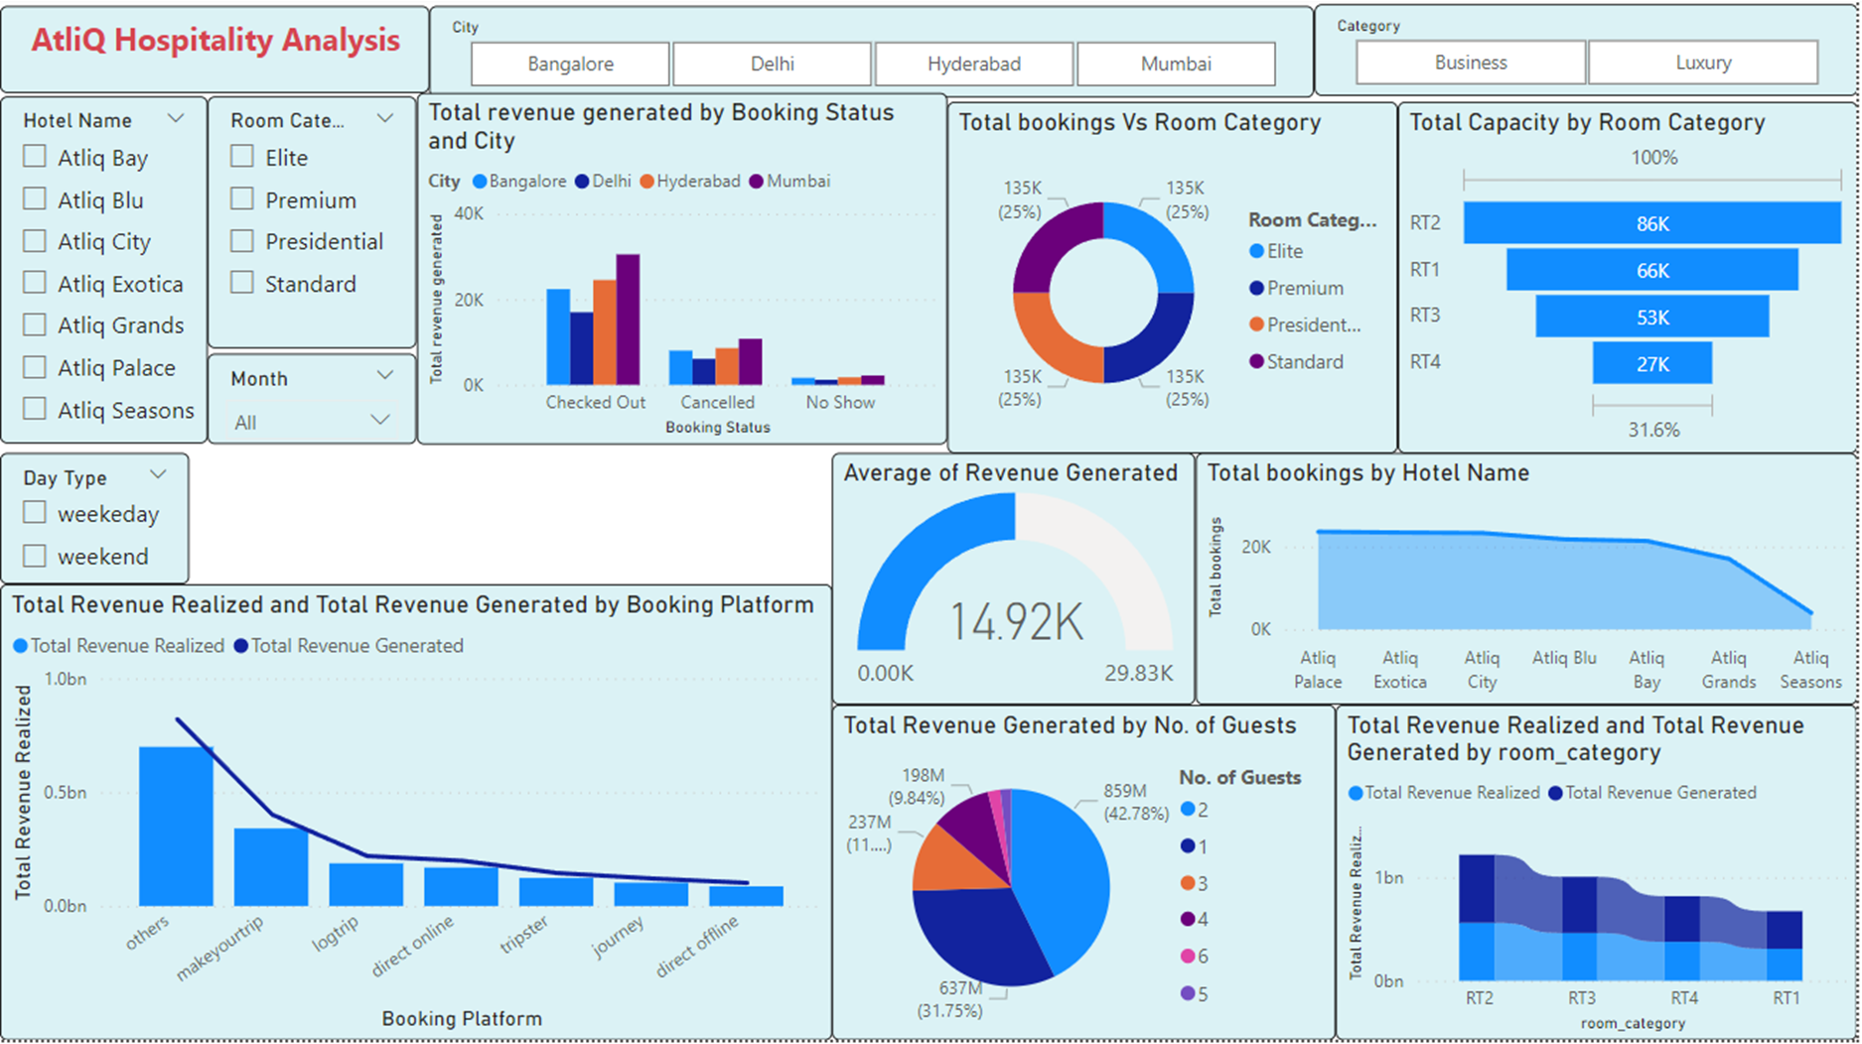

This screenshot's page, from the dashboard's own definition file:
{"tool":"powerbi","page":{"name":"Page 1","canvas":[1280,720],"ordinal":0},"visuals":[{"type":"slicer","fields":{"Values":["dim_hotels.city"]},"box":[295.8,7.3,610,63.6],"z":0},{"type":"slicer","fields":{"Values":["dim_hotels.property_name"]},"box":[0,69.7,143,239.6],"z":1000},{"type":"slicer","fields":{"Values":["dim_hotels.category"]},"box":[906.1,9.8,374.2,63.6],"z":2000},{"type":"textbox","box":[0,7.3,295.8,59.9],"z":3000},{"type":"slicer","fields":{"Values":["dim_date.day_type"]},"box":[0,315.4,130.8,90.5],"z":4000},{"type":"slicer","fields":{"Values":["dim_date.mmm yy.Variation.Date Hierarchy.Month"]},"box":[143,246.9,144.2,62.3],"z":5000},{"type":"slicer","fields":{"Values":["dim_rooms.Column2"]},"box":[143,69.7,144.2,173.6],"z":6000},{"type":"stackedAreaChart","fields":{"Y":["Sum(fact_aggregated_bookings.successful_bookings)"],"Category":["dim_hotels.property_name"]},"box":[823.9,315.4,456,173.6],"z":7000},{"type":"funnel","fields":{"Y":["Sum(fact_aggregated_bookings.capacity)"],"Category":["fact_aggregated_bookings.room_category"]},"box":[963.3,73.3,316.6,242],"z":8000},{"type":"donutChart","title":"Total bookings Vs Room Category","fields":{"Y":["Sum(fact_aggregated_bookings.successful_bookings)"],"Category":["dim_rooms.Column2"]},"box":[652.8,73.3,310.5,242],"z":9000},{"type":"pieChart","fields":{"Category":["fact_bookings.no_guests"],"Y":["Sum(fact_bookings.revenue_generated)"]},"box":[573.3,489,347.2,231],"z":10000},{"type":"lineStackedColumnComboChart","fields":{"Category":["fact_bookings.booking_platform"],"Y":["Sum(fact_bookings.revenue_realized)"],"Y2":["Sum(fact_bookings.revenue_generated)"]},"box":[0,405.8,573.3,314.2],"z":11000},{"type":"clusteredColumnChart","fields":{"Category":["fact_bookings.booking_status"],"Series":["dim_hotels.city"],"Y":["CountNonNull(fact_bookings.revenue_generated)"]},"box":[287.3,67.2,365.5,242],"z":12000},{"type":"gauge","fields":{"Y":["Avg(fact_bookings.revenue_generated)"]},"box":[573.3,315.4,250.6,173.6],"z":13000},{"type":"ribbonChart","fields":{"Category":["fact_bookings.room_category"],"Y":["Sum(fact_bookings.revenue_realized)","Sum(fact_bookings.revenue_generated)"]},"box":[920.5,489,359.4,231],"z":14000}]}

Visuals, with their boxes in screenshot pixels (x1, y1, x2, y2), scaled from the page's 1280x720 canvas onto the 1862x1044 screenshot:
slicer - dim_hotels.city: x1=430, y1=11, x2=1318, y2=103
slicer - dim_hotels.property_name: x1=0, y1=101, x2=208, y2=448
slicer - dim_hotels.category: x1=1318, y1=14, x2=1861, y2=106
textbox: x1=0, y1=11, x2=430, y2=97
slicer - dim_date.day_type: x1=0, y1=457, x2=190, y2=589
slicer - dim_date.mmm yy.Variation.Date Hierarchy.Month: x1=208, y1=358, x2=418, y2=448
slicer - dim_rooms.Column2: x1=208, y1=101, x2=418, y2=353
stackedAreaChart - Sum(fact_aggregated_bookings.successful_bookings) x dim_hotels.property_name: x1=1199, y1=457, x2=1861, y2=709
funnel - Sum(fact_aggregated_bookings.capacity) x fact_aggregated_bookings.room_category: x1=1401, y1=106, x2=1861, y2=457
"Total bookings Vs Room Category" donutChart: x1=950, y1=106, x2=1401, y2=457
pieChart - fact_bookings.no_guests x Sum(fact_bookings.revenue_generated): x1=834, y1=709, x2=1339, y2=1043
lineStackedColumnComboChart - fact_bookings.booking_platform x Sum(fact_bookings.revenue_realized): x1=0, y1=588, x2=834, y2=1043
clusteredColumnChart - fact_bookings.booking_status x dim_hotels.city: x1=418, y1=97, x2=950, y2=448
gauge - Avg(fact_bookings.revenue_generated): x1=834, y1=457, x2=1199, y2=709
ribbonChart - fact_bookings.room_category x Sum(fact_bookings.revenue_realized): x1=1339, y1=709, x2=1861, y2=1043
